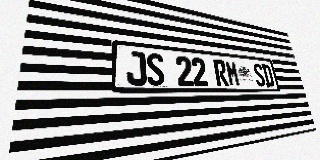2: (175, 55, 194, 86), (191, 57, 208, 86)
D: (261, 64, 275, 87)
J: (126, 51, 147, 86)
M: (225, 60, 241, 87)
R: (213, 59, 229, 86)
S: (146, 53, 166, 86), (252, 63, 266, 87)
